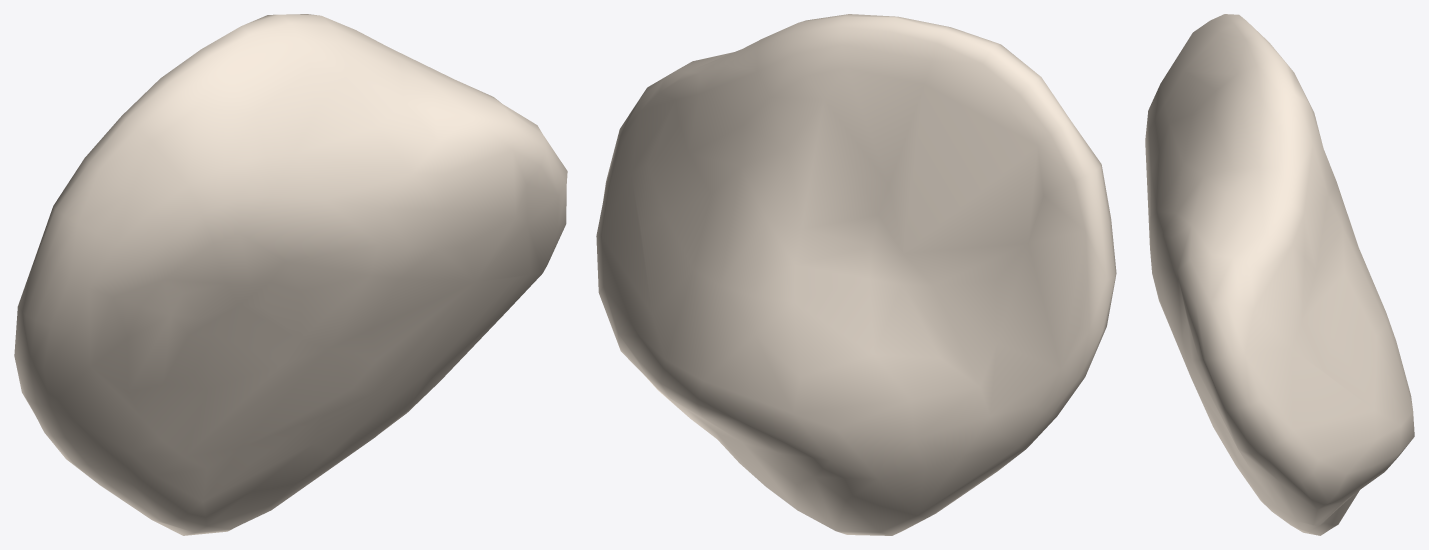
The model's file is right_patella.glb.
3 views of the same model, side by side, from view 1: azimuth 30°, elevation 25°; view 2: azimuth 150°, elevation 25°; view 3: azimuth 270°, elevation 25° (orthographic). The views are drawn at different scales.
Parts seen in each view (by area): view 1: Patella.r; view 2: Patella.r; view 3: Patella.r.
Boxes of the visible parts, <box> form: Patella.r: <box>14,14,567,535</box>; Patella.r: <box>596,14,1116,535</box>; Patella.r: <box>1145,14,1414,535</box>.
Size of the model in its own units: 0.043 by 0.0404 by 0.0205.
